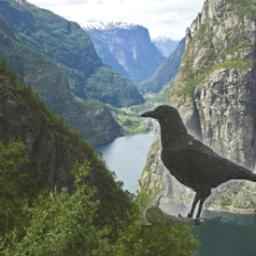Crow: (140, 104, 256, 226)
